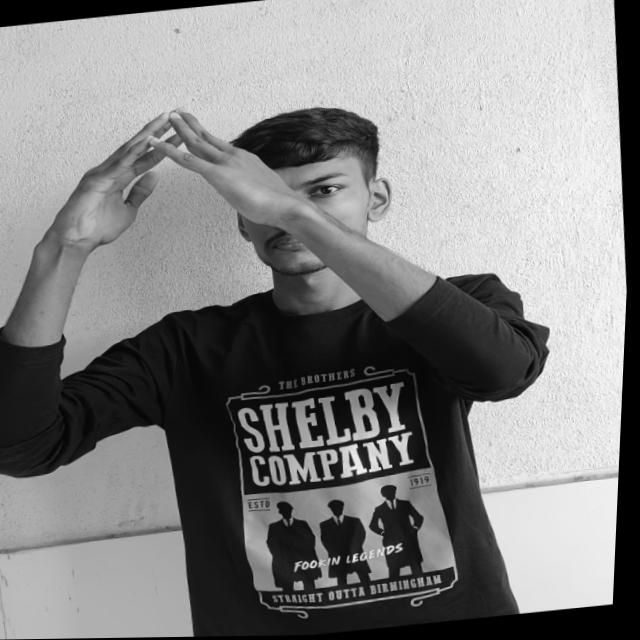Home: (43, 96, 291, 276)
